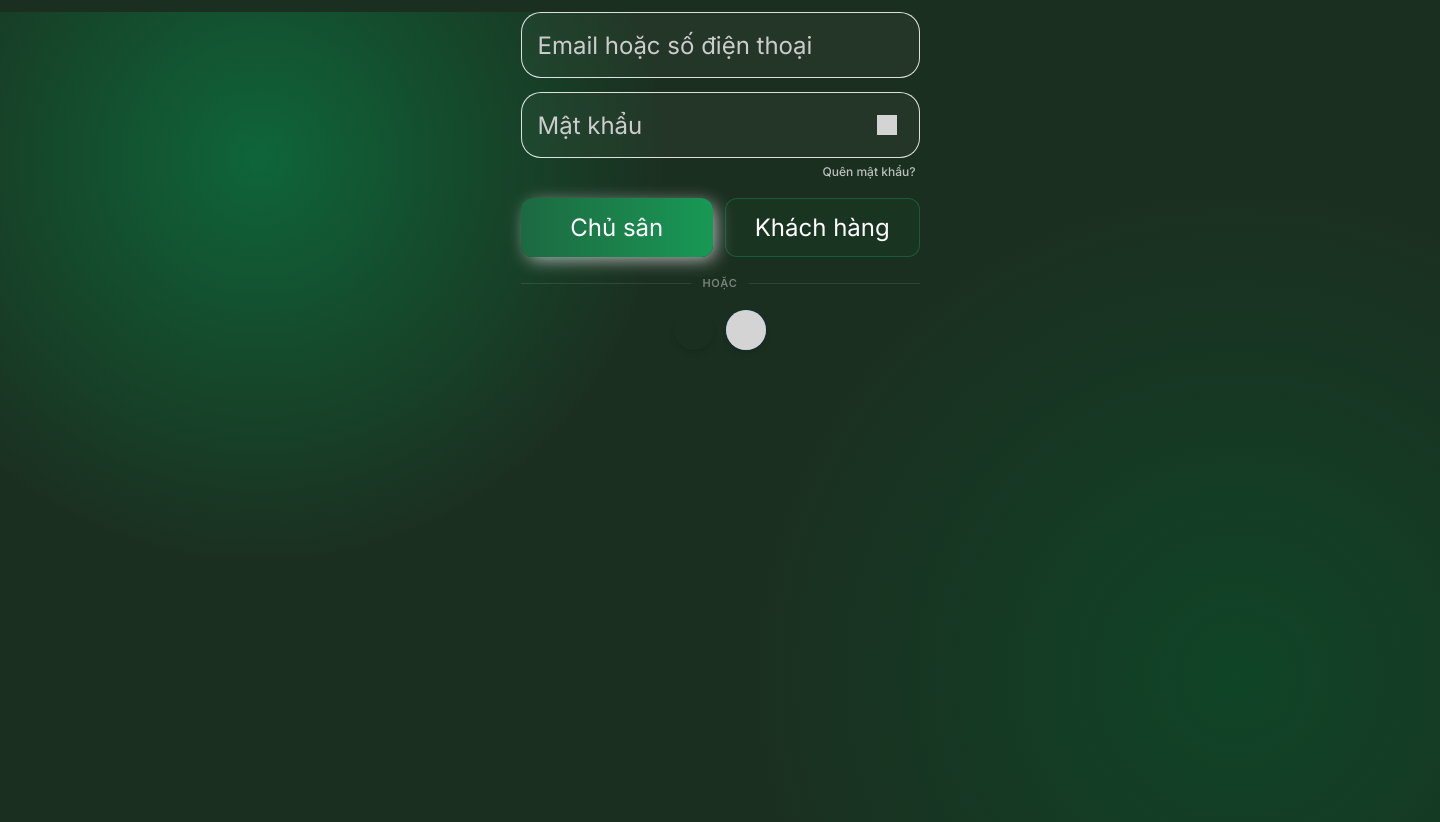
Test: LoginForm › shows validation error for short password
The image size is (1440, 822).
Type "test@example.com" into the field with placeholder "Email hoặc số điện thoại".
click(720, 45); type("test@example.com")  # box top-left (538, 13), bottom-right (902, 77)
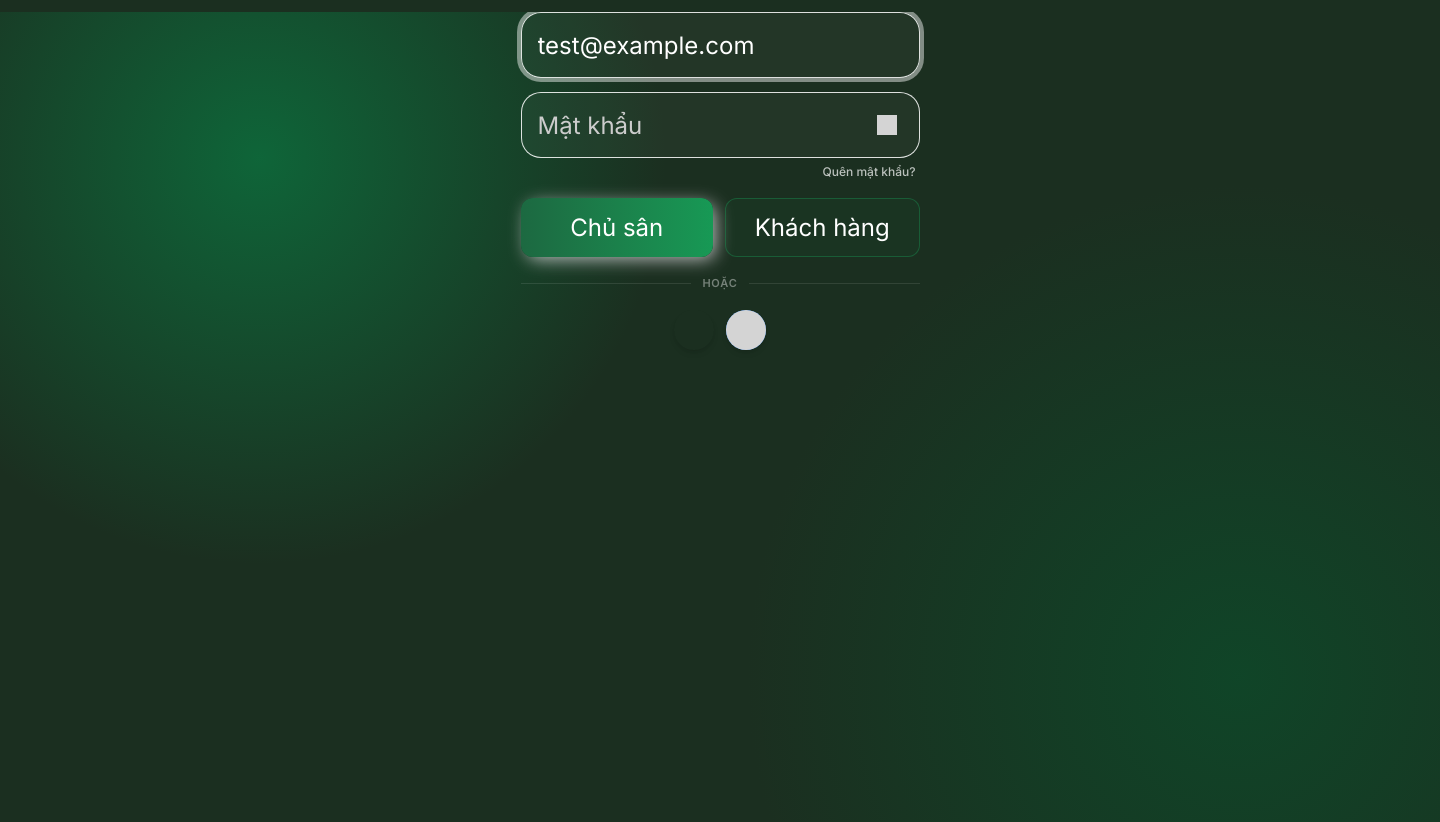
Type "123" into the password field with placeholder "Mật khẩu".
click(698, 125); type("123")  # box top-left (538, 93), bottom-right (858, 157)
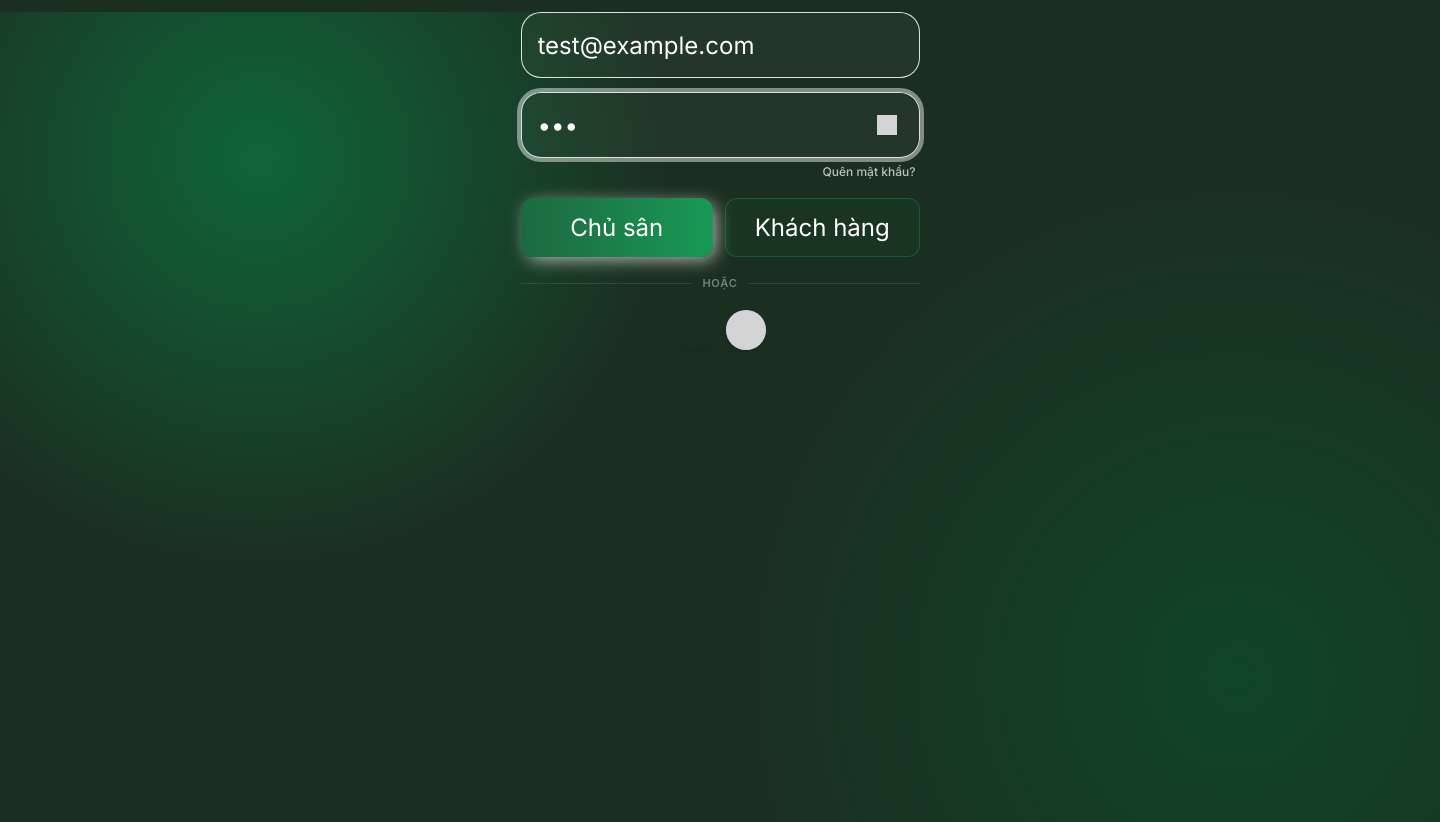
Click the button "Chủ sân".
click(617, 228)  # box top-left (520, 198), bottom-right (713, 257)
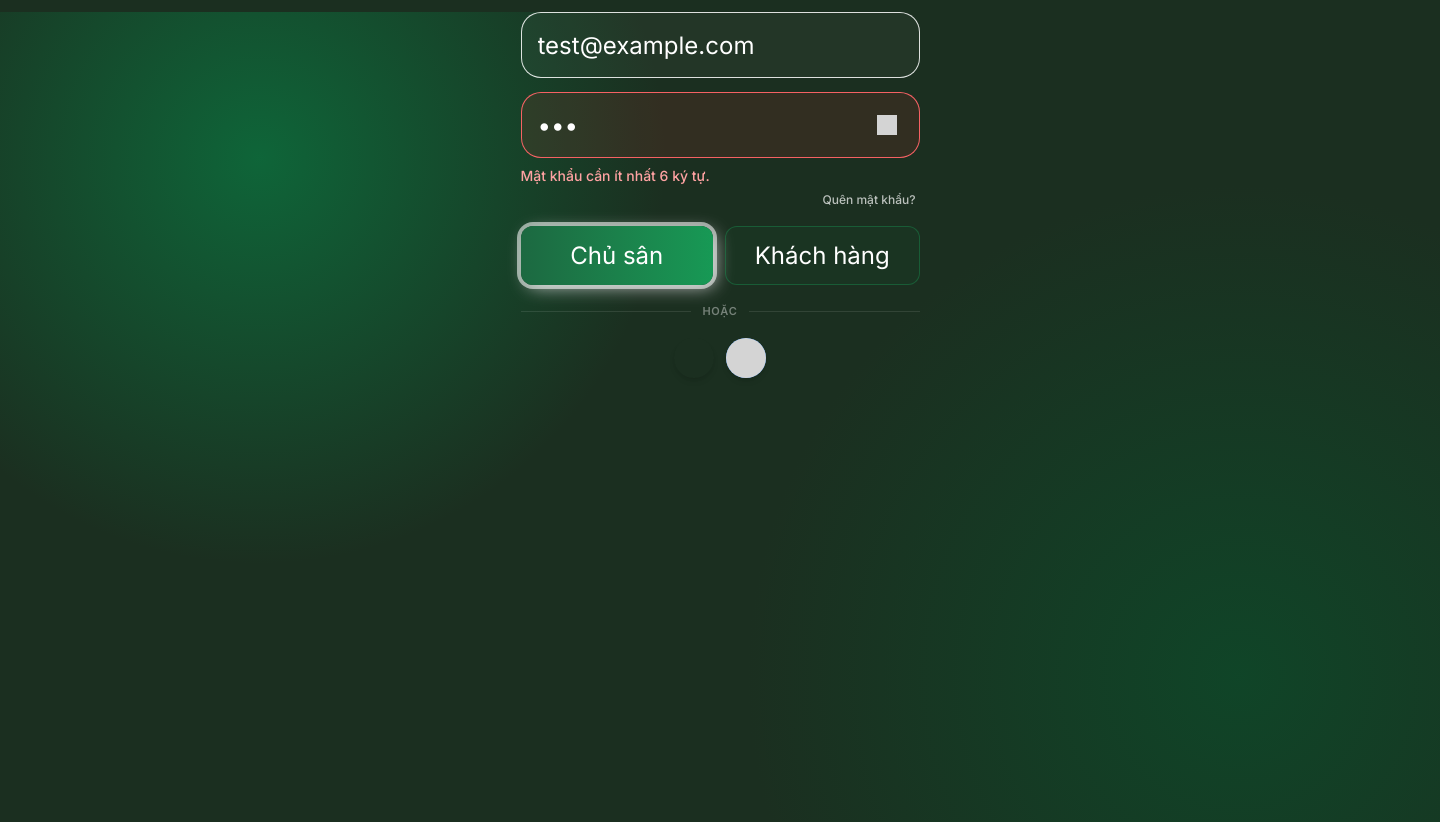
Check: the text "Mật khẩu cần ít nhất 6 ký tự." is shown, box top-left (520, 167), bottom-right (710, 184)
